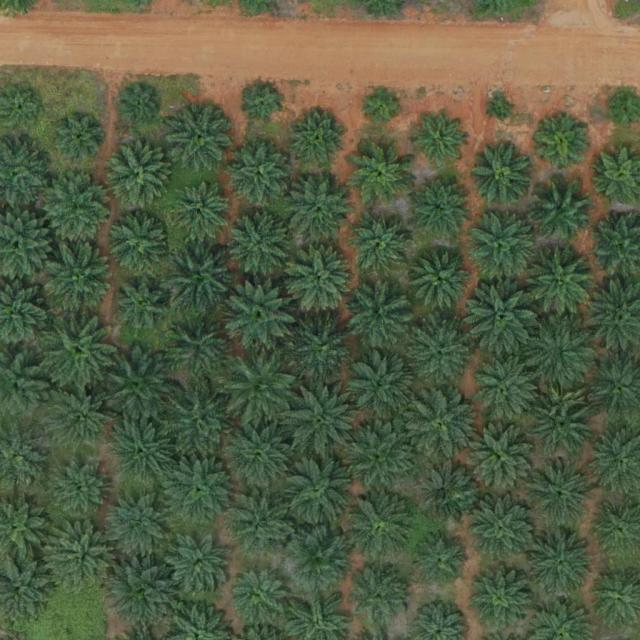Healthy: (41, 241, 119, 320), (40, 312, 118, 391), (100, 347, 178, 426), (160, 235, 238, 314), (159, 309, 237, 388), (159, 382, 237, 461), (223, 278, 301, 357), (221, 352, 299, 431), (282, 382, 360, 461), (462, 281, 540, 360), (520, 316, 598, 395), (279, 453, 357, 532), (221, 416, 299, 495), (161, 451, 239, 530), (283, 243, 361, 321), (401, 387, 479, 465), (343, 418, 421, 496), (343, 488, 421, 566), (526, 248, 597, 319), (529, 529, 600, 600), (109, 554, 180, 625), (42, 174, 113, 244), (47, 383, 117, 454), (467, 207, 537, 278), (526, 385, 596, 456), (527, 456, 597, 527), (164, 533, 234, 604), (49, 525, 119, 596), (469, 355, 539, 425), (107, 214, 170, 277), (349, 287, 412, 350), (409, 176, 472, 239), (410, 249, 473, 312), (469, 429, 532, 492), (414, 461, 477, 524), (289, 529, 352, 592), (232, 493, 295, 556), (105, 494, 168, 557), (47, 460, 110, 523), (108, 143, 170, 206), (112, 274, 174, 337), (172, 106, 234, 169), (168, 181, 230, 244), (229, 141, 291, 204), (229, 211, 291, 274), (288, 177, 350, 240), (293, 319, 355, 382), (352, 144, 414, 207), (349, 216, 411, 279), (352, 352, 414, 415), (409, 321, 471, 384), (472, 500, 534, 563), (468, 569, 530, 632), (350, 566, 412, 629), (472, 142, 534, 204), (531, 178, 593, 240), (111, 419, 173, 481), (413, 535, 468, 591), (413, 114, 468, 169), (295, 112, 349, 167), (537, 119, 591, 174), (233, 569, 287, 624)
Small: (57, 115, 104, 162), (120, 86, 160, 125), (362, 85, 401, 125), (246, 85, 285, 124), (491, 98, 514, 122)
